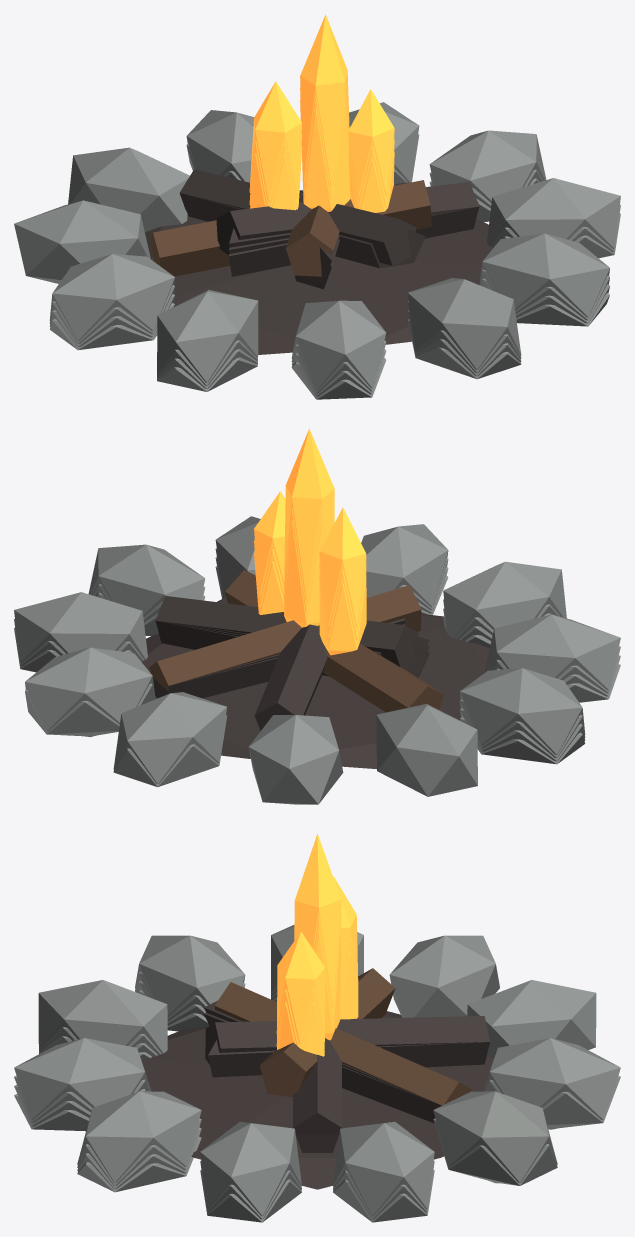
File: campfire_stages.glb
3 renders of one model, top to bottom at view 1: azimuth 30°, elevation 25°; view 2: azimuth 150°, elevation 25°; view 3: azimuth 270°, elevation 25°, orthographic. The views are drawn at different scales.
Parts seen in each view (by area): view 1: Stage_Intact, FlameMesh, Stage_Rubble, Stage_Damaged, FlameMesh.002, Stage_Critical, FlameMesh.001; view 2: Stage_Intact, FlameMesh, Stage_Damaged, Stage_Critical, FlameMesh.002, Stage_Rubble, FlameMesh.001; view 3: Stage_Intact, Stage_Damaged, FlameMesh, Stage_Critical, Stage_Rubble, FlameMesh.002, FlameMesh.001.
Part boxes in pixels (x1,y1,x2,y2): Stage_Intact: (14, 102, 620, 390); FlameMesh: (249, 14, 394, 201); Stage_Rubble: (50, 206, 609, 399); Stage_Damaged: (49, 134, 620, 393); FlameMesh.002: (250, 100, 394, 212); Stage_Critical: (49, 178, 620, 396); FlameMesh.001: (249, 87, 394, 209); Stage_Intact: (14, 516, 620, 804); FlameMesh: (254, 428, 366, 627); Stage_Damaged: (14, 548, 620, 787); Stage_Critical: (14, 557, 620, 761); FlameMesh.002: (254, 513, 366, 655); Stage_Rubble: (156, 566, 620, 764); FlameMesh.001: (254, 501, 366, 639); Stage_Intact: (14, 925, 620, 1216); Stage_Damaged: (14, 971, 620, 1219); FlameMesh: (276, 833, 358, 1043); Stage_Critical: (14, 980, 441, 1222); Stage_Rubble: (14, 989, 338, 1192); FlameMesh.002: (277, 924, 358, 1056); FlameMesh.001: (276, 911, 358, 1050).
Size of what is drawn, in the model's own units: 2.27 by 1.14 by 2.22.
